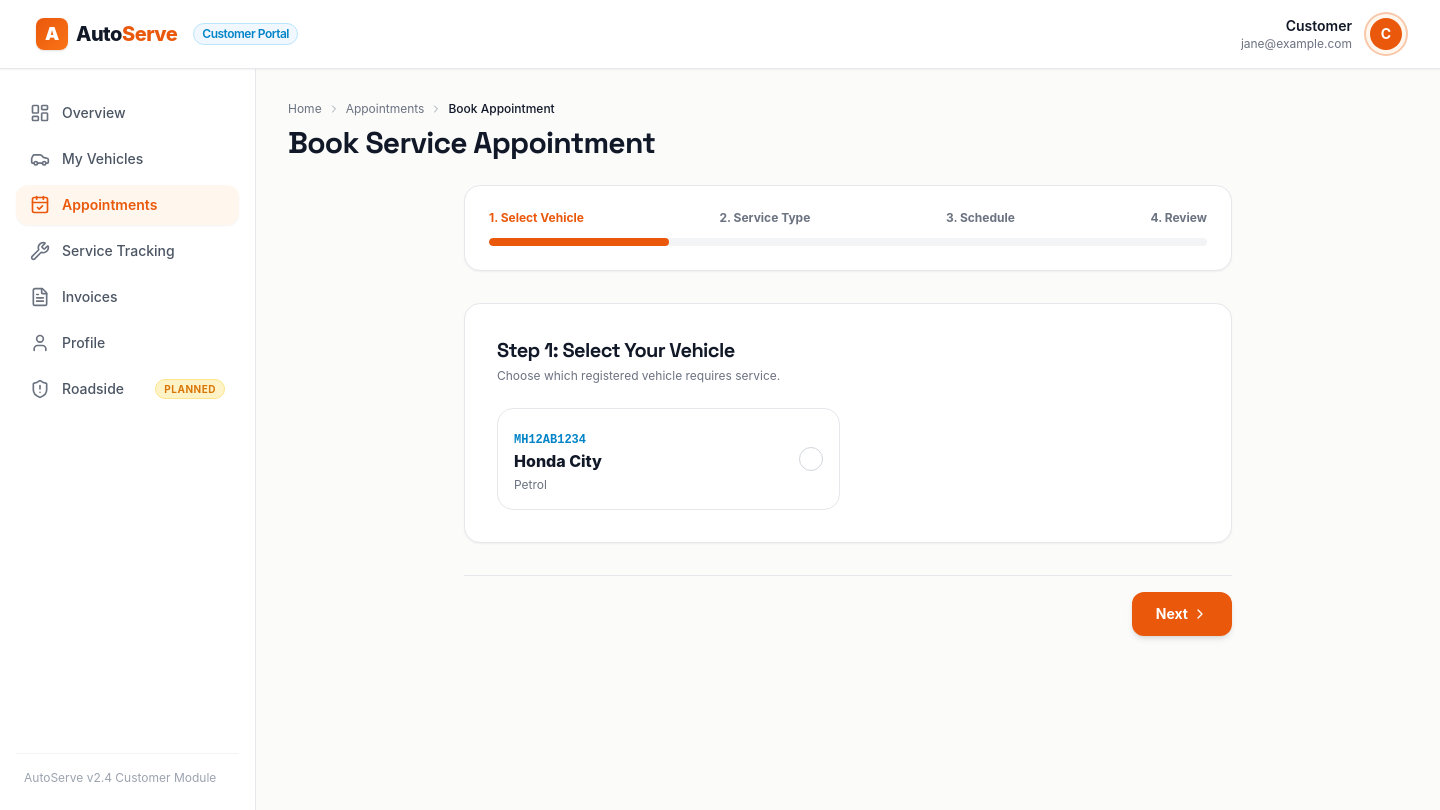
Test case: Appointment Booking & List Tests › 16. submits booking payload and displays real appointment reference ID and PENDING initial status
expect the heading "Step 1: Select Your Vehicle" is shown: met, box 497,337 -> 735,363
expect the text "Honda City" is shown: met, box 514,449 -> 602,473
Click the button "Next": (1182, 614) 1132,592 -> 1232,636
(page scrolled)
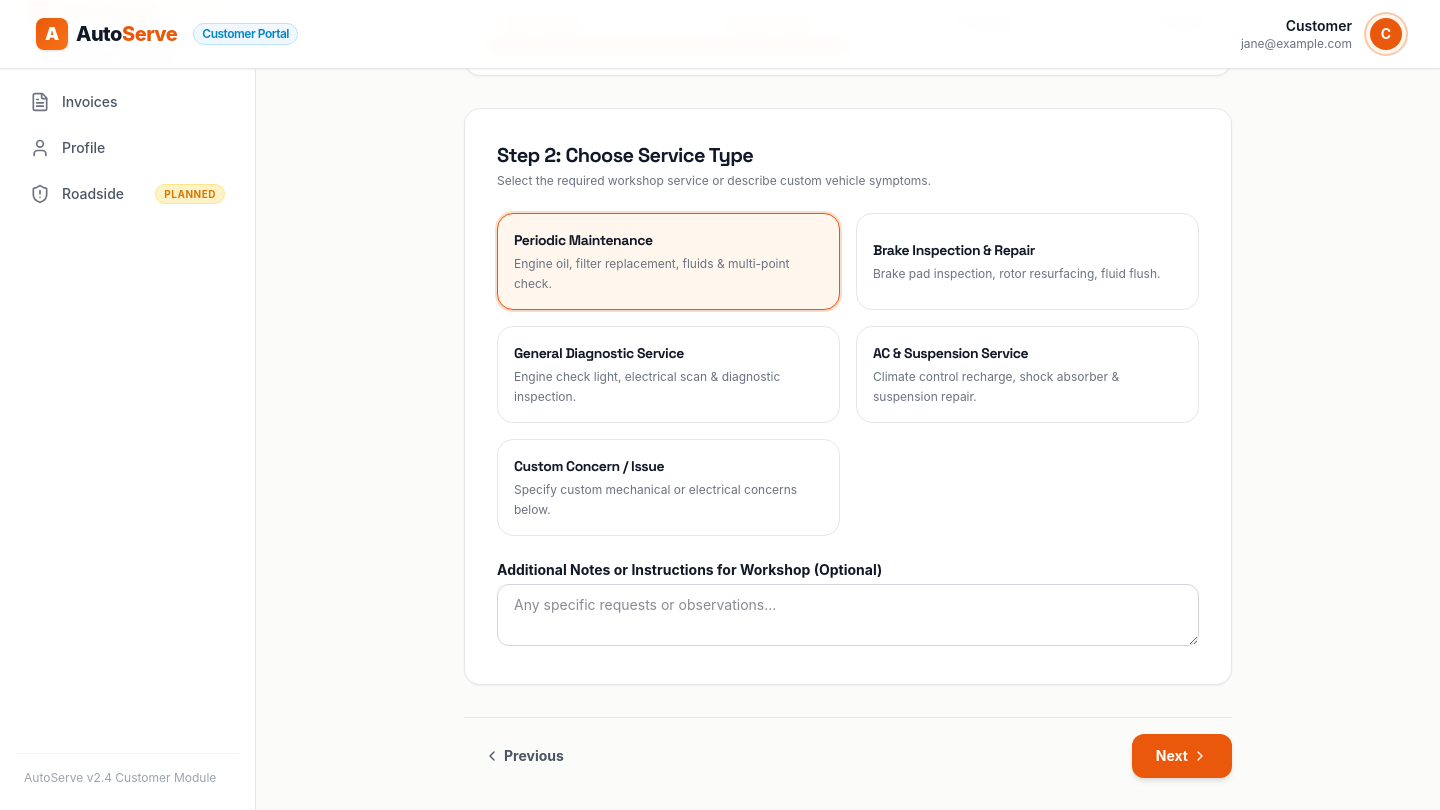
expect the heading "Step 2: Choose Service Type" is shown: met, box 497,142 -> 753,168
Click the button "Next": (1182, 756) 1132,734 -> 1232,778
(page scrolled)
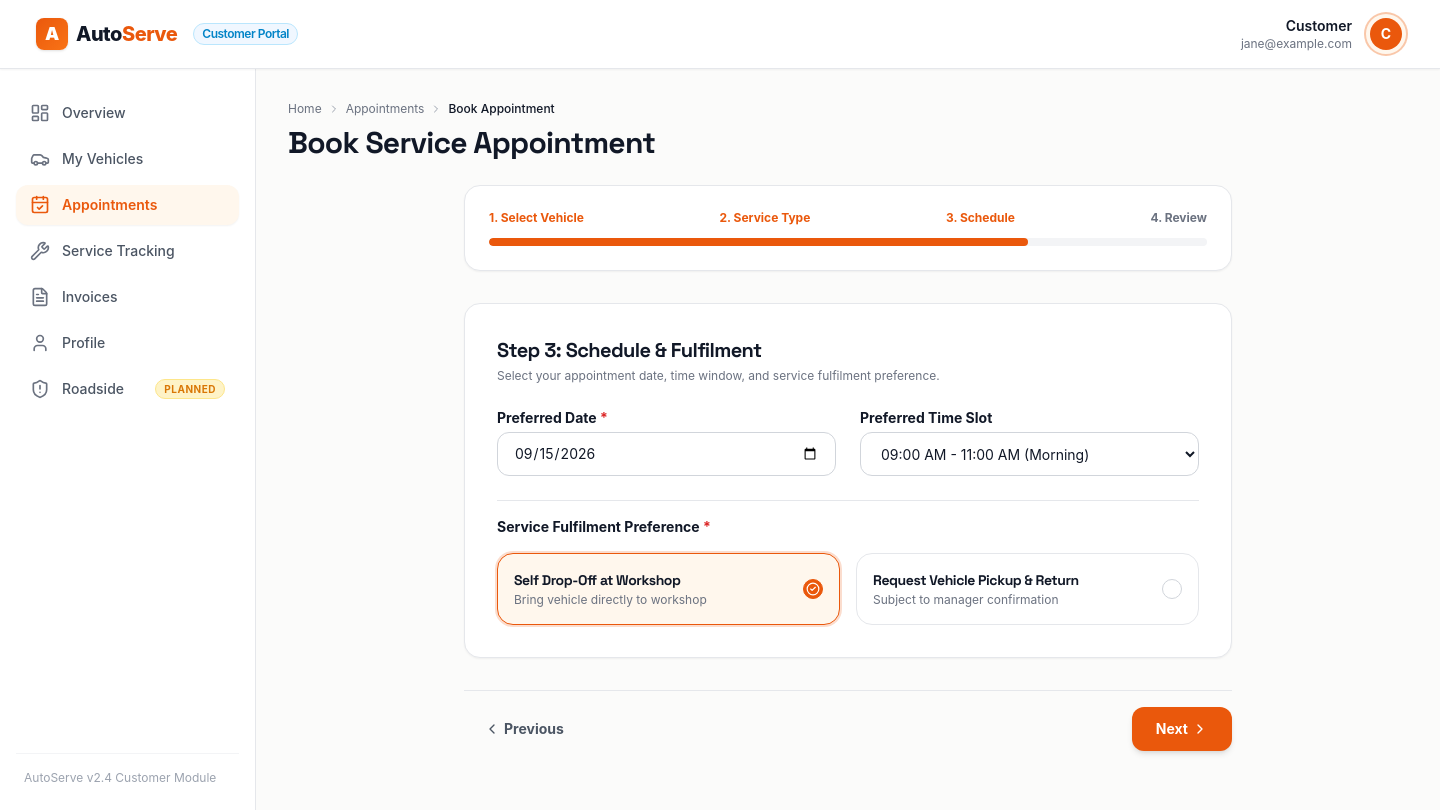
expect the heading "Step 3: Schedule & Fulfilment" is shown: met, box 497,337 -> 762,363
Click the button "Next": (1182, 729) 1132,707 -> 1232,751
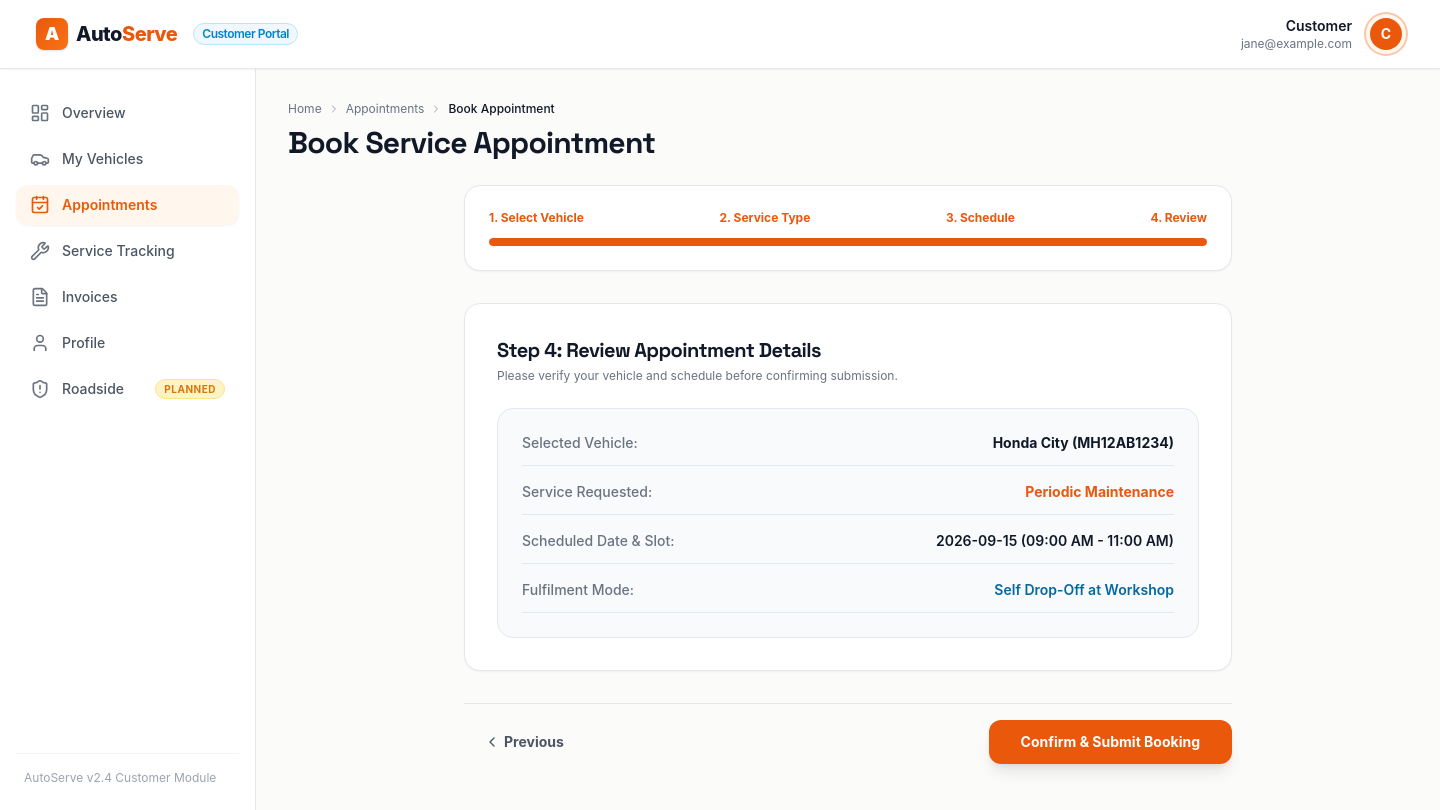
expect the heading "Step 4: Review Appointment Details" is shown: met, box 497,337 -> 821,363
Click the button "Confirm & Submit Booking": (1110, 742) 989,720 -> 1232,764
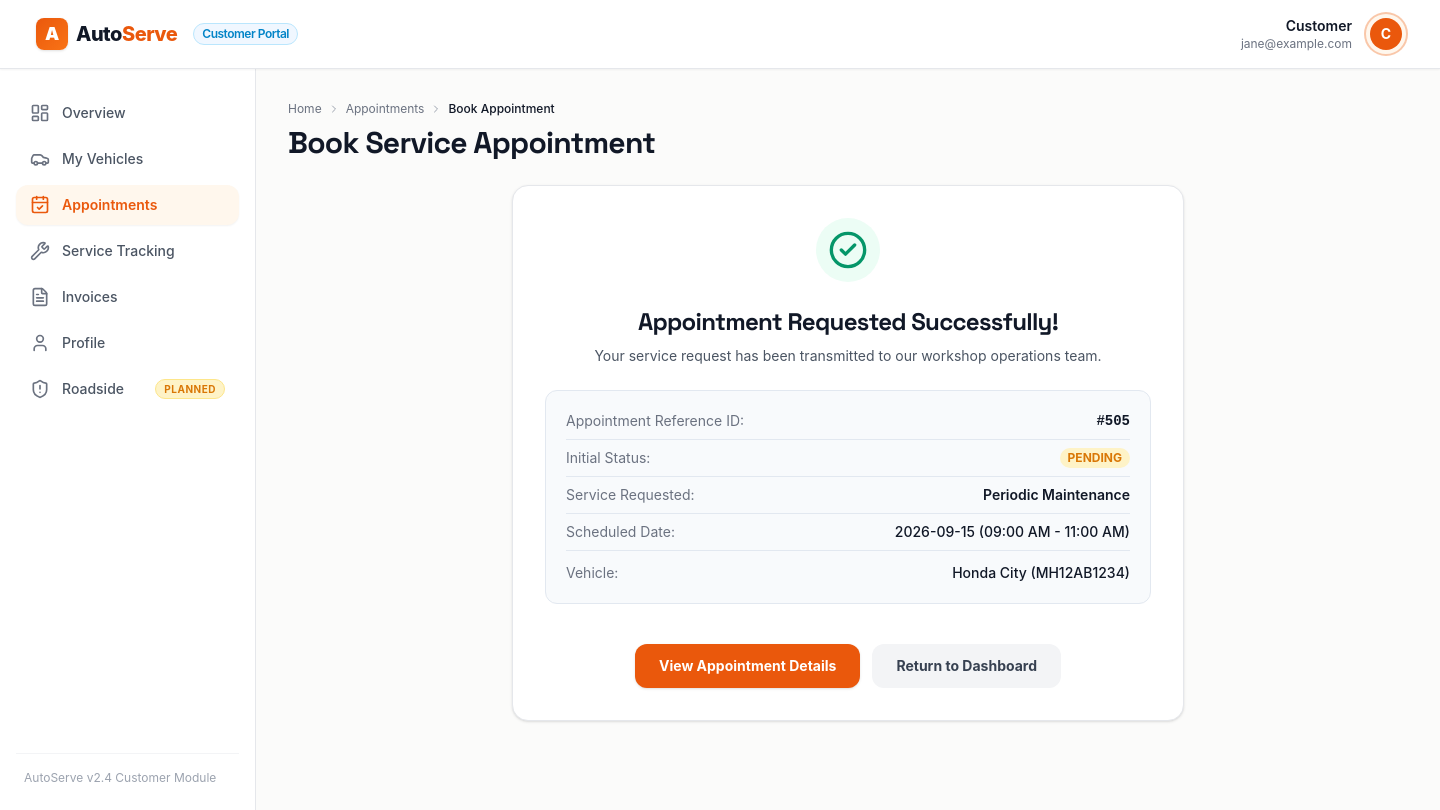
expect the heading "Appointment Requested Successfully!" is shown: met, box 638,306 -> 1058,337
expect the text "#505" is shown: met, box 1096,411 -> 1130,431
expect the text "PENDING" is shown: met, box 1060,448 -> 1130,468
